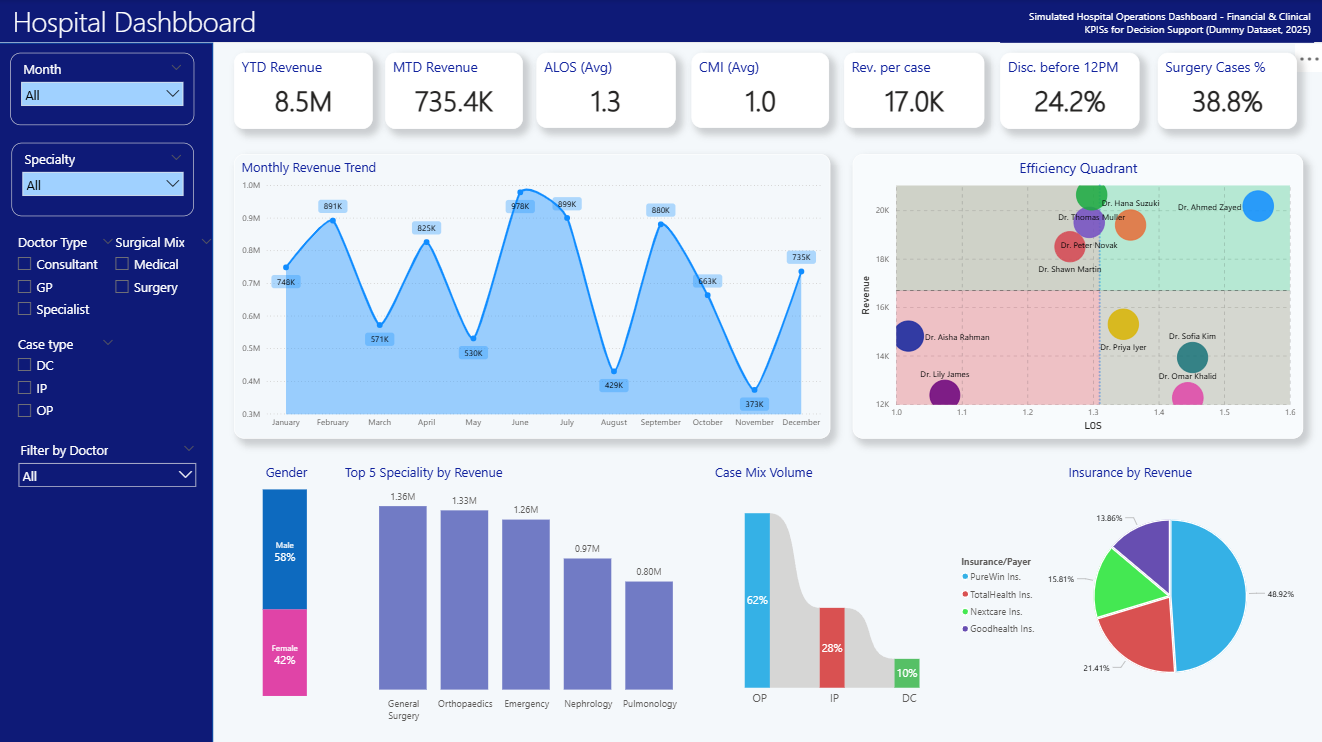

The dashboard page shown, as its layout file describes it:
{"tool":"powerbi","page":{"name":"Page 1","canvas":[1920,1500],"ordinal":0},"visuals":[{"type":"shape","box":[0,0,1920.1,63.3],"z":0},{"type":"shape","box":[0,64,310,1436],"z":1000},{"type":"slicer","fields":{"Values":["dummy_hospital_generated.Specialty"]},"box":[18.1,208.1,264.2,106.8],"z":2000},{"type":"slicer","fields":{"Values":["dummy_hospital_generated.Month.Variation.Date Hierarchy.Month"]},"box":[16.3,77.8,266,105],"z":3000},{"type":"slicer","fields":{"Values":["dummy_hospital_generated.Surgical Mix"]},"box":[155.6,334.8,164.7,139.3],"z":4000},{"type":"slicer","fields":{"Values":["dummy_hospital_generated.Doctor Type"]},"box":[14.9,334.1,163.2,139.6],"z":5000},{"type":"slicer","fields":{"Values":["dummy_hospital_generated.Case type"]},"box":[14.9,481,163.2,139.6],"z":6000},{"type":"slicer","fields":{"Values":["dummy_hospital_generated.DoctorName"]},"box":[14.9,636.9,292,397.1],"z":7000},{"type":"card","title":"YTD Revenue","fields":{"Values":["dummy_hospital_generated.Revenue"]},"box":[340.2,77.8,200.9,110.4],"z":8000},{"type":"kpi","title":"MTD Revenue","fields":{"Indicator":["dummy_hospital_generated.Revenue"],"TrendLine":["dummy_hospital_generated.Month"]},"box":[559.2,77.8,199.1,110.4],"z":9000},{"type":"card","title":"CMI (Avg)","fields":{"Values":["dummy_hospital_generated.CMI Value"]},"box":[1002.8,78,199.5,108.8],"z":10000},{"type":"card","title":"Rev. per case","fields":{"Values":["dummy_hospital_generated.Revenue"]},"box":[1224,78,203.1,108.8],"z":11000},{"type":"lineStackedColumnComboChart","title":"Monthly Revenue & Case Volume (2025)","fields":{"Category":["dummy_hospital_generated.Month.Variation.Date Hierarchy.Month"],"Y2":["dummy_hospital_generated.Revenue"],"Y":["dummy_hospital_generated.Case_No"]},"box":[328.2,208.2,1101.8,468.2],"z":12000},{"type":"barChart","fields":{"Y":["dummy_hospital_generated.Revenue"],"Category":["dummy_hospital_generated.Specialty"]},"box":[1424.2,208.1,477.8,465.1],"z":13000},{"type":"pieChart","title":"Insurance Mix Volume","fields":{"Y":["dummy_hospital_generated.Case_No"],"Category":["dummy_hospital_generated.Insurance/Payer"]},"box":[340,692.5,567.5,362.5],"z":14000},{"type":"pieChart","title":"Insurance Mix Volume","fields":{"Category":["dummy_hospital_generated.Insurance/Payer"],"Y":["dummy_hospital_generated.Revenue"]},"box":[906,694,524,360],"z":15000},{"type":"treemap","title":"Payer Mix Rev.","fields":{"Group":["dummy_hospital_generated.Payer Mix"],"Values":["dummy_hospital_generated.Revenue"]},"box":[1450.2,882.2,429.8,173.4],"z":16000},{"type":"treemap","title":"Case Mix Volume","fields":{"Group":["dummy_hospital_generated.Case type"],"Values":["dummy_hospital_generated.Case_No"]},"box":[1447.7,786.7,432.3,95.5],"z":17000},{"type":"pivotTable","title":"Case Type Details","fields":{"Rows":["dummy_hospital_generated.Case type"],"Values":["dummy_hospital_generated.Revenue","dummy_hospital_generated.Revenue","Divide(Sum(dummy_hospital_generated.Revenue), ScopedEval(Sum(dummy_hospital_generated.Revenue), []))"]},"box":[400,1086,322,182],"z":18000},{"type":"pivotTable","title":"Payer Mix Details","fields":{"Values":["dummy_hospital_generated.Revenue","dummy_hospital_generated.Revenue","Divide(Sum(dummy_hospital_generated.Revenue), ScopedEval(Sum(dummy_hospital_generated.Revenue), []))"],"Rows":["dummy_hospital_generated.Payer Mix"]},"box":[400,1282,322,152],"z":19000},{"type":"treemap","title":"Gender","fields":{"Values":["dummy_hospital_generated.Case_No"],"Group":["dummy_hospital_generated.Gender"]},"box":[1448,694,432,90],"z":20000},{"type":"card","title":"Disc. before 12PM","fields":{"Values":["dummy_hospital_generated.% discharge"]},"box":[1448.9,78,201.3,110.6],"z":21000},{"type":"card","title":"ALOS (Avg)","fields":{"Values":["dummy_hospital_generated.LOS"]},"box":[777.9,78,201.3,108.8],"z":22000},{"type":"card","title":"Disc. before 12PM","fields":{"Values":["dummy_hospital_generated.Surgery %"]},"box":[1677.4,78,201.3,110.6],"z":23000},{"type":"pivotTable","title":"Doctor Efficiency Score","fields":{"Values":["dummy_hospital_generated.Doctor Eff"],"Rows":["dummy_hospital_generated.DoctorName"]},"box":[722.7,1086.7,341.3,348],"z":24000},{"type":"scatterChart","title":"Efficiency Quadrant","fields":{"X":["dummy_hospital_generated.LOS"],"Series":["dummy_hospital_generated.Doctor Type"],"Y":["dummy_hospital_generated.Revenue"],"Size":["dummy_hospital_generated.CMI Value"]},"box":[1118,1084,762,394],"z":25000},{"type":"textbox","box":[1448.9,8.9,454.4,54.4],"z":26000},{"type":"textbox","box":[0,1435,310,52.5],"z":27000}]}

Visuals, with their boxes on the page's 1920x1500 design canvas (x1, y1, x2, y2). These are canvas units, not pixel positions in the 1322x742 screenshot, which may show the page scaled, cropped or inside an application window:
shape: {"left": 0, "top": 0, "right": 1920, "bottom": 63}
shape: {"left": 0, "top": 64, "right": 310, "bottom": 1500}
slicer - dummy_hospital_generated.Specialty: {"left": 18, "top": 208, "right": 282, "bottom": 315}
slicer - dummy_hospital_generated.Month.Variation.Date Hierarchy.Month: {"left": 16, "top": 78, "right": 282, "bottom": 183}
slicer - dummy_hospital_generated.Surgical Mix: {"left": 156, "top": 335, "right": 320, "bottom": 474}
slicer - dummy_hospital_generated.Doctor Type: {"left": 15, "top": 334, "right": 178, "bottom": 474}
slicer - dummy_hospital_generated.Case type: {"left": 15, "top": 481, "right": 178, "bottom": 621}
slicer - dummy_hospital_generated.DoctorName: {"left": 15, "top": 637, "right": 307, "bottom": 1034}
"YTD Revenue" card: {"left": 340, "top": 78, "right": 541, "bottom": 188}
"MTD Revenue" kpi: {"left": 559, "top": 78, "right": 758, "bottom": 188}
"CMI (Avg)" card: {"left": 1003, "top": 78, "right": 1202, "bottom": 187}
"Rev. per case" card: {"left": 1224, "top": 78, "right": 1427, "bottom": 187}
"Monthly Revenue & Case Volume (2025)" lineStackedColumnComboChart: {"left": 328, "top": 208, "right": 1430, "bottom": 676}
barChart - dummy_hospital_generated.Revenue x dummy_hospital_generated.Specialty: {"left": 1424, "top": 208, "right": 1902, "bottom": 673}
"Insurance Mix Volume" pieChart: {"left": 340, "top": 692, "right": 908, "bottom": 1055}
"Insurance Mix Volume" pieChart: {"left": 906, "top": 694, "right": 1430, "bottom": 1054}
"Payer Mix Rev." treemap: {"left": 1450, "top": 882, "right": 1880, "bottom": 1056}
"Case Mix Volume" treemap: {"left": 1448, "top": 787, "right": 1880, "bottom": 882}
"Case Type Details" pivotTable: {"left": 400, "top": 1086, "right": 722, "bottom": 1268}
"Payer Mix Details" pivotTable: {"left": 400, "top": 1282, "right": 722, "bottom": 1434}
"Gender" treemap: {"left": 1448, "top": 694, "right": 1880, "bottom": 784}
"Disc. before 12PM" card: {"left": 1449, "top": 78, "right": 1650, "bottom": 189}
"ALOS (Avg)" card: {"left": 778, "top": 78, "right": 979, "bottom": 187}
"Disc. before 12PM" card: {"left": 1677, "top": 78, "right": 1879, "bottom": 189}
"Doctor Efficiency Score" pivotTable: {"left": 723, "top": 1087, "right": 1064, "bottom": 1435}
"Efficiency Quadrant" scatterChart: {"left": 1118, "top": 1084, "right": 1880, "bottom": 1478}
textbox: {"left": 1449, "top": 9, "right": 1903, "bottom": 63}
textbox: {"left": 0, "top": 1435, "right": 310, "bottom": 1488}
